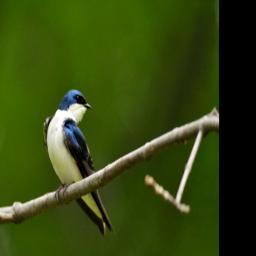Swallow: (38, 85, 119, 237)
